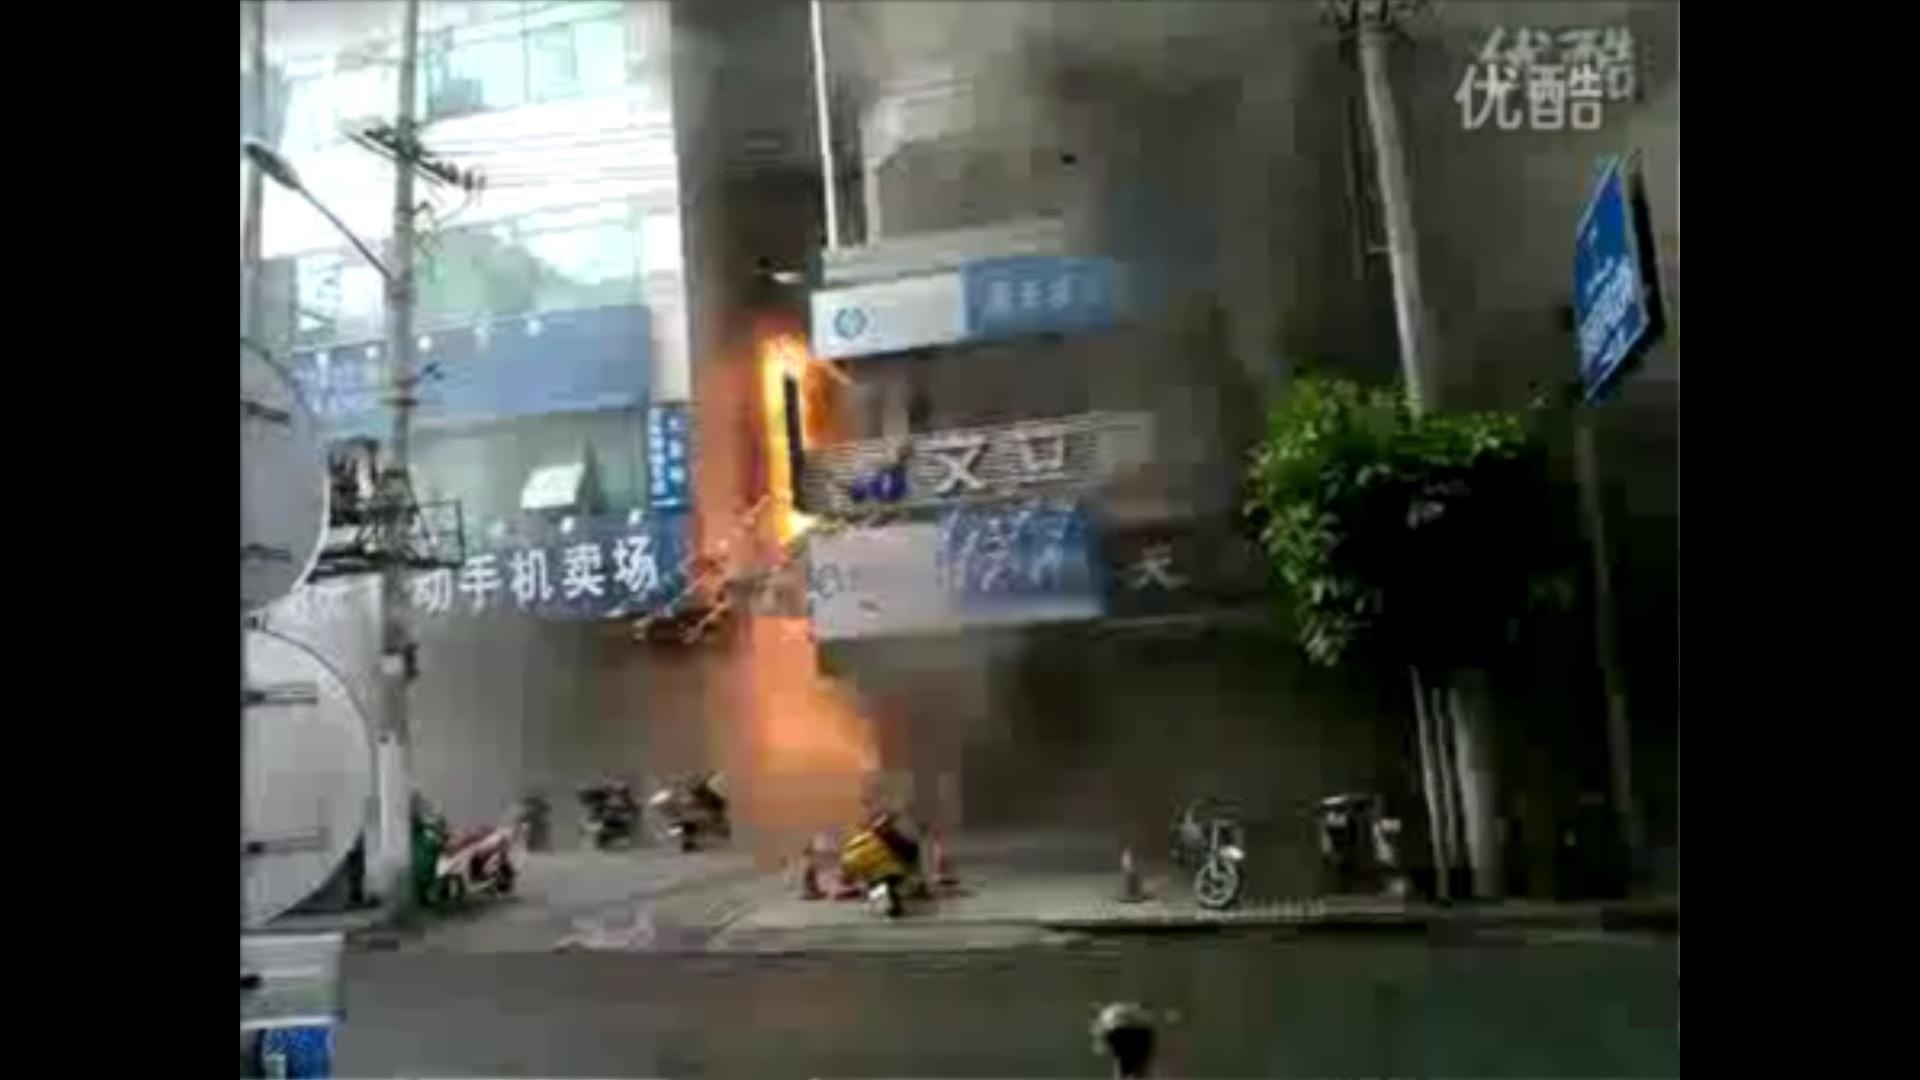fire: (746, 323, 822, 556)
